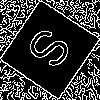S: (24, 24, 82, 78)
